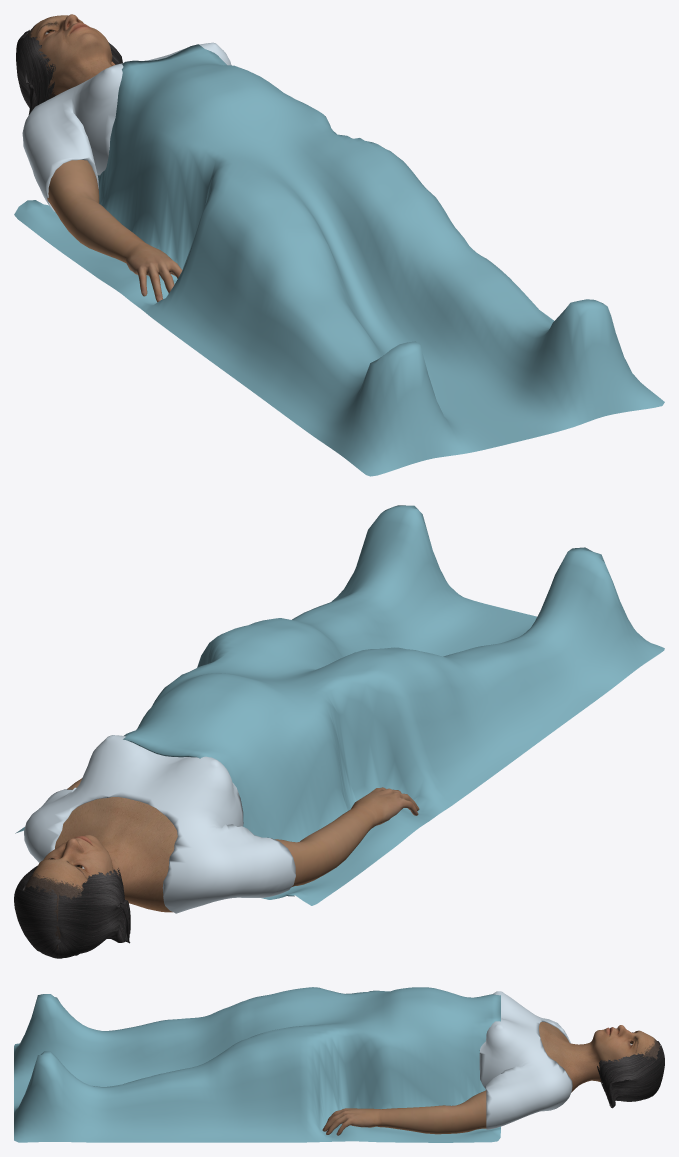
The picture shows the model from 3 angles, top to bottom: view 1: azimuth 30°, elevation 25°; view 2: azimuth 150°, elevation 25°; view 3: azimuth 270°, elevation 25°; orthographic projection. The views are drawn at different scales.
Parts seen in each view (by area): view 1: sheet, gown, arms, body, hair; view 2: sheet, gown, body, hair, arms; view 3: sheet, gown, arms, body, hair.
Boxes of the visible parts, x1,y1,x2,y2 form: sheet: (14,44,664,476); gown: (22,42,231,211); arms: (47,160,182,302); body: (27,14,115,99); hair: (16,30,122,114); sheet: (15,505,664,905); gown: (24,735,295,913); body: (24,797,177,949); hair: (14,865,130,958); arms: (67,778,419,886); sheet: (14,987,500,1142); gown: (479,991,572,1129); arms: (322,1090,486,1135); body: (539,1022,660,1092); hair: (597,1041,664,1108).
Bounding box in the file's own units: 0.6407 × 0.2975 × 1.78.
8 materials, 6 textured.
